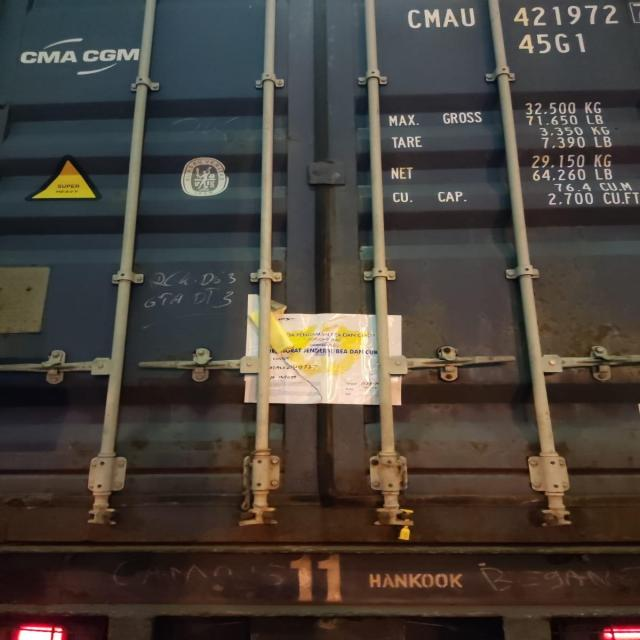seal: (382, 504, 427, 542)
